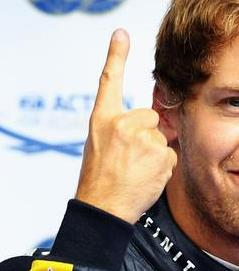up: (78, 25, 181, 205)
